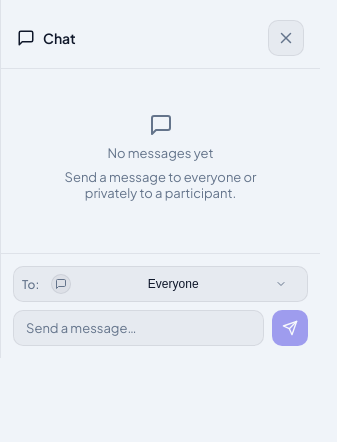
Scenario: ChatPanel › recipient dropdown › shows selected state on the chosen participant
The width and height of the screenshot is (337, 442).
Click the button with aria-label "Select message recipient".
click(173, 284)  # box [47,272,299,296]
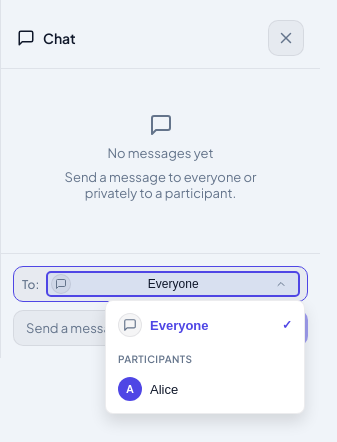
Click the option "A Alice".
click(205, 389)  # box [106,369,304,409]
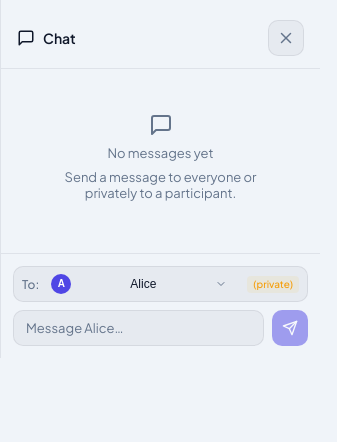
Note: Re-open to check Alice is now selected
Click the button with aria-label "Select message recipient".
click(143, 284)  # box [47,272,239,296]
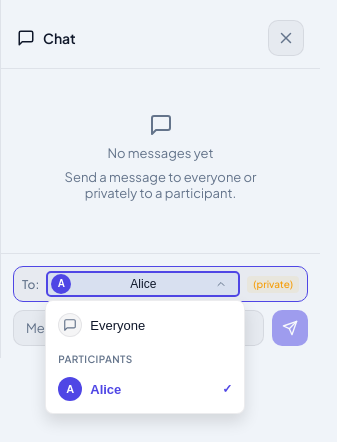
Expected: the option "A Alice ✓" is shown, [46,369,244,409]
